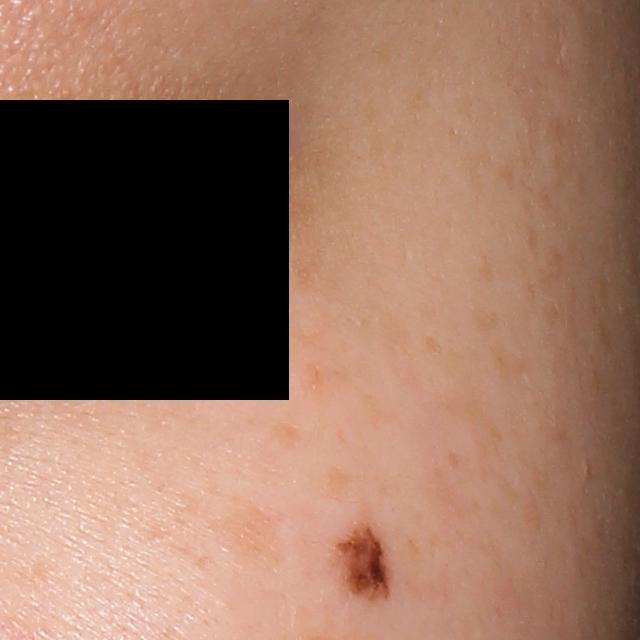melasma: (293, 358, 390, 427), (467, 301, 531, 385), (232, 506, 287, 561), (319, 460, 362, 503), (471, 245, 501, 286), (268, 417, 303, 452), (491, 156, 520, 198), (423, 336, 442, 359), (446, 449, 462, 469)
nevus: (338, 525, 392, 598)
